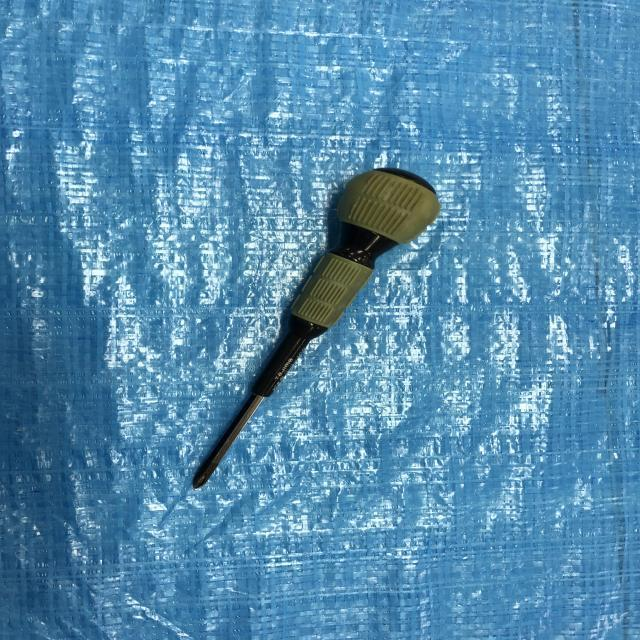screwdriver: (186, 165, 443, 492)
